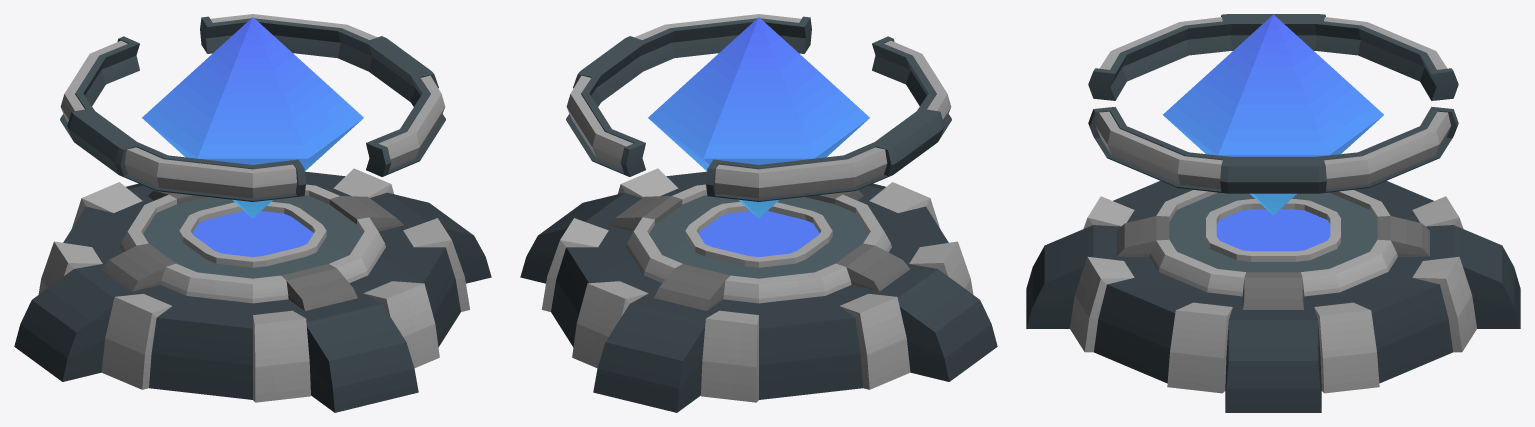
The model's file is ShieldGenerator.glb.
3 views of the same model, side by side, from view 1: azimuth 30°, elevation 25°; view 2: azimuth 150°, elevation 25°; view 3: azimuth 270°, elevation 25° (orthographic).
Visible parts, largest first — view 1: ShieldGenerator; view 2: ShieldGenerator; view 3: ShieldGenerator.
Boxes of the visible parts, left/top/right/bottom form: ShieldGenerator: left=14, top=14, right=491, bottom=412; ShieldGenerator: left=520, top=14, right=997, bottom=412; ShieldGenerator: left=1026, top=14, right=1520, bottom=412.
Bounding box in the file's own units: 28 × 18.4 × 28.
2 materials, 2 textured.
